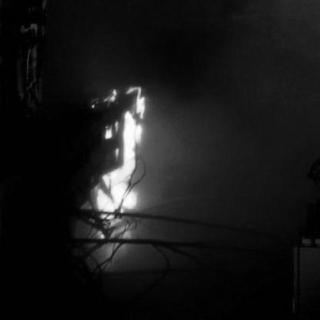Fire: (82, 84, 156, 240)
